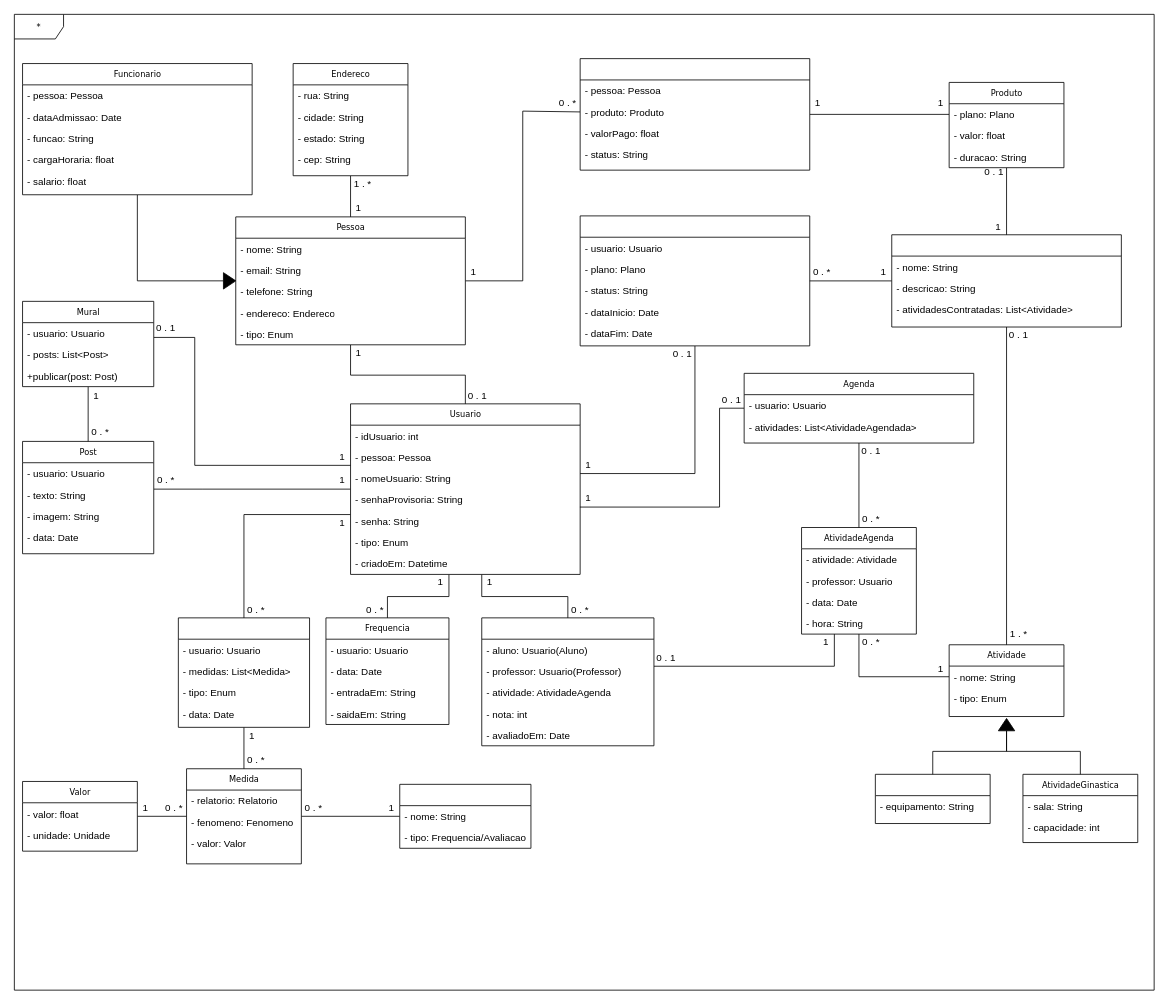
Some shapes in this 1169 by 1005 pixel diagram are drawn without their labels. The shapes that lost their labels are listed below. From the top down, each one's box as (x1, y1, x2, y2) in pixels, then its label:
(579, 58, 810, 170): Transacao
(579, 215, 810, 346): Matricula
(891, 234, 1121, 327): Plano
(178, 617, 310, 727): Relatorio
(481, 617, 654, 746): Avaliação
(399, 784, 531, 848): Fenomeno
(875, 774, 990, 824): AtividadeMusculacao
